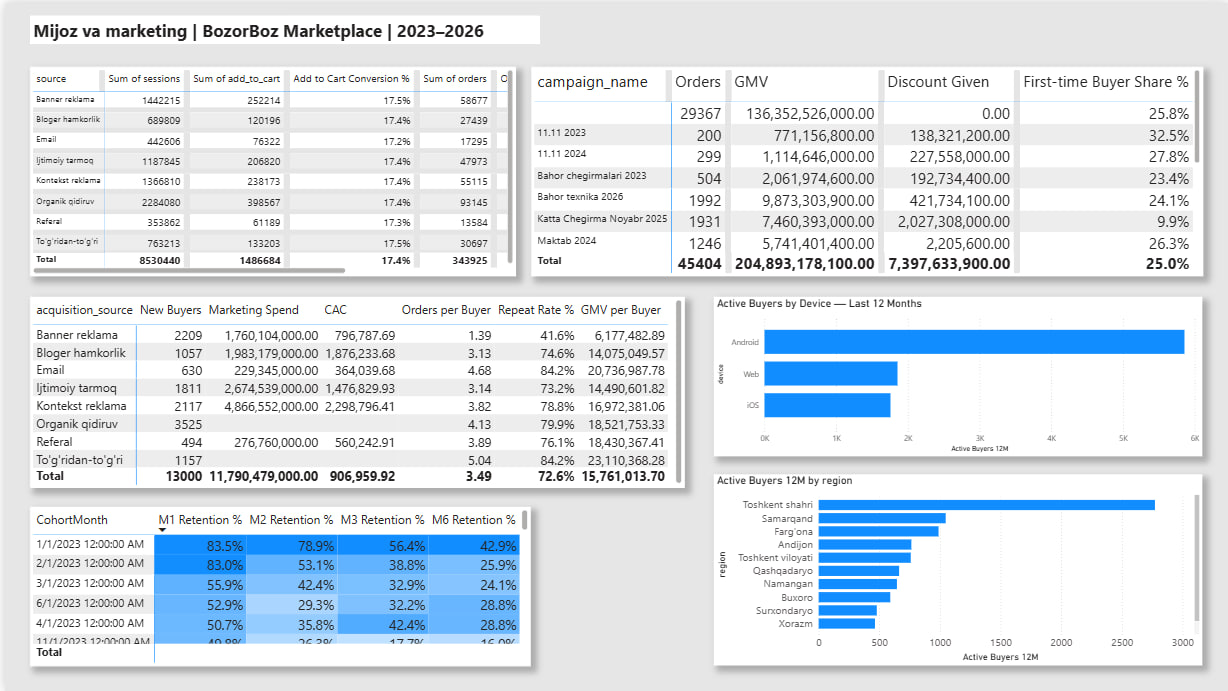

This screenshot's page, from the dashboard's own definition file:
{"tool":"powerbi","page":{"name":"Mijoz va marketing","canvas":[1920,1080],"ordinal":4},"visuals":[{"type":"textbox","box":[40,20,800,45],"z":0},{"type":"pivotTable","fields":{"Rows":["fact_session_daily.source"],"Values":["Sum(fact_session_daily.sessions)","Sum(fact_session_daily.add_to_cart)","BB_Measures.Add to Cart Conversion %","Sum(fact_session_daily.orders)","BB_Measures.Order Conversion from Cart %","BB_Measures.Conversion %"]},"box":[39.6,100,762.5,329.2],"z":1000},{"type":"pivotTable","fields":{"Rows":["dim_customer.acquisition_source"],"Values":["BB_Measures.New Buyers","BB_Measures.Marketing Spend","BB_Measures.CAC","BB_Measures.Orders per Buyer","BB_Measures.Repeat Rate %","BB_Measures.GMV per Buyer"]},"box":[39.6,460.4,1027.1,300],"z":2000},{"type":"pivotTable","fields":{"Values":["BB_Measures.M1 Retention %","BB_Measures.M2 Retention %","BB_Measures.M3 Retention %","BB_Measures.M6 Retention %"],"Rows":["Cohort.CohortMonth"]},"box":[39.6,789.6,785.4,250],"z":3000},{"type":"pivotTable","fields":{"Rows":["dim_campaign.campaign_name"],"Values":["BB_Measures.Orders","BB_Measures.GMV","BB_Measures.Discount Given","BB_Measures.First-time Buyer Share %"]},"box":[825,100,1054.2,329.2],"z":4000},{"type":"clusteredBarChart","title":"Active Buyers by Device — Last 12 Months","fields":{"Category":["dim_customer.device"],"Y":["BB_Measures.Active Buyers 12M"]},"box":[1112.5,460.4,766.7,250],"z":5000},{"type":"clusteredBarChart","fields":{"Category":["dim_customer.region"],"Y":["BB_Measures.Active Buyers 12M"]},"box":[1112.5,739.6,766.7,300],"z":6000}]}

Visuals, with their boxes in screenshot pixels (x1, y1, x2, y2), scaled from the page's 1920x1080 canvas onto the 1228x691 screenshot:
textbox: l=26, t=13, r=537, b=42
pivotTable - fact_session_daily.source x Sum(fact_session_daily.sessions): l=25, t=64, r=513, b=275
pivotTable - dim_customer.acquisition_source x BB_Measures.New Buyers: l=25, t=295, r=682, b=487
pivotTable - BB_Measures.M1 Retention % x BB_Measures.M2 Retention %: l=25, t=505, r=528, b=665
pivotTable - dim_campaign.campaign_name x BB_Measures.Orders: l=528, t=64, r=1202, b=275
"Active Buyers by Device — Last 12 Months" clusteredBarChart: l=712, t=295, r=1202, b=455
clusteredBarChart - dim_customer.region x BB_Measures.Active Buyers 12M: l=712, t=473, r=1202, b=665
